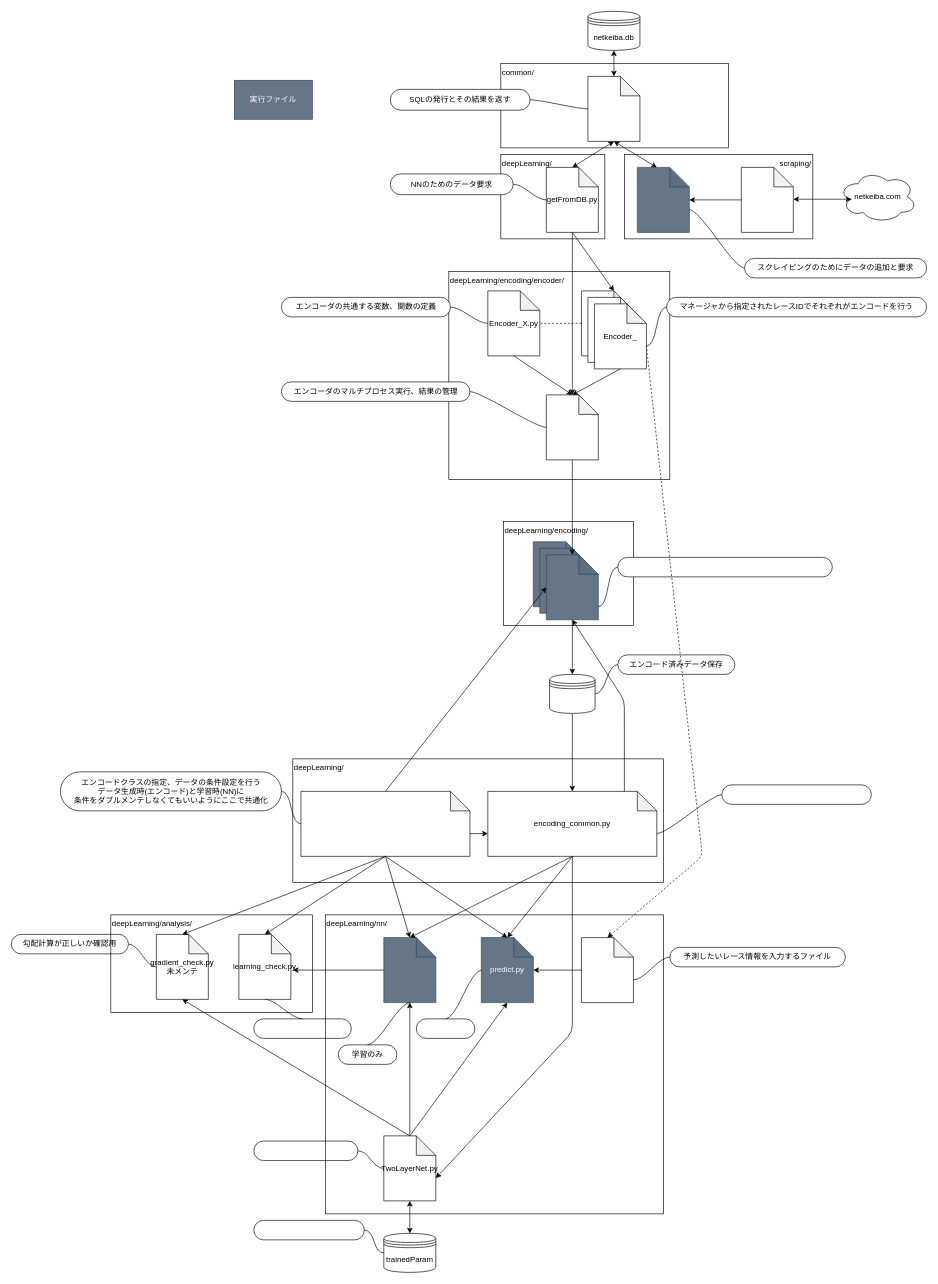
Image size: 938x1284. Some labels were removed from this diagram. Each missing label, with the centre of its shape:
config_predict.py: the point at 607,970
deepLearningMain.py: the point at 409,970
Encoder_Mgr.py: the point at 572,427
learningList: the point at 572,693
netkeiba_scraping.py: the point at 663,199
NetKeibaDB.py: the point at 613,108
scraping/ append/ change/ DataNrm.py: the point at 572,587
table.py: the point at 385,823
webdriver_functions.py: the point at 767,199
エンコード結果をマネージャから受け取り、保存する: the point at 724,567
予測のみ: the point at 445,1028
保存先フォルダの決定など汎用関数: the point at 796,794
学習 + グラフの描画: the point at 302,1028
学習アルゴリズム本体: the point at 305,1150
学習済みパラメータ保存: the point at 308,1230
